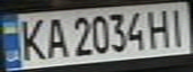0: (90, 11, 112, 55)
2: (69, 12, 93, 59)
3: (109, 10, 130, 54)
4: (124, 8, 148, 52)
A: (42, 15, 69, 61)
H: (145, 6, 175, 49)
I: (163, 4, 193, 47)
K: (15, 16, 48, 62)
